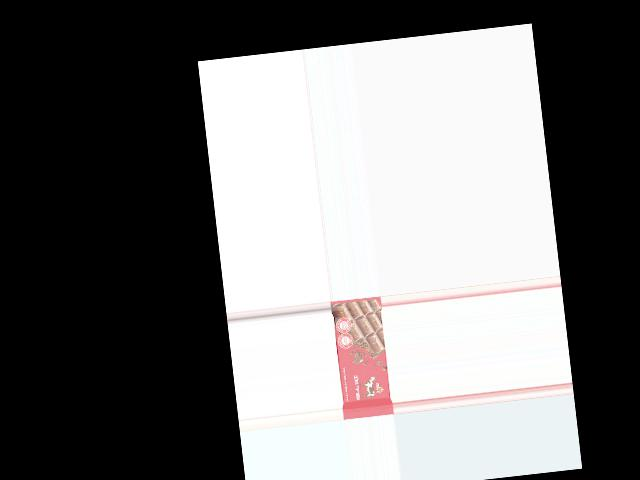chocolate: (330, 297, 393, 420)
